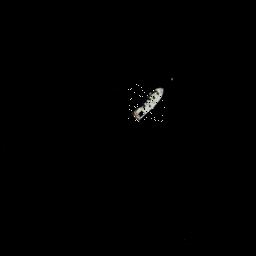boat: (128, 83, 165, 122)
